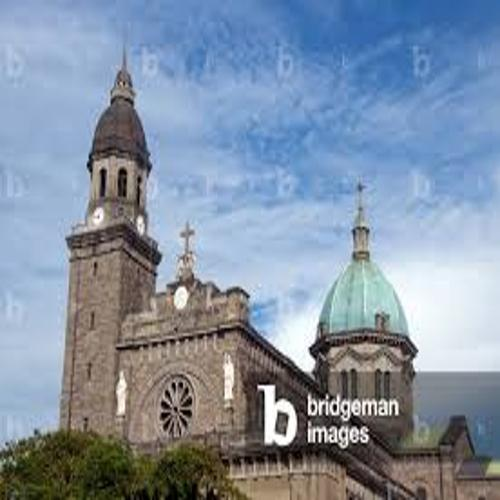Manila Cathedral Church: (41, 34, 438, 478)
